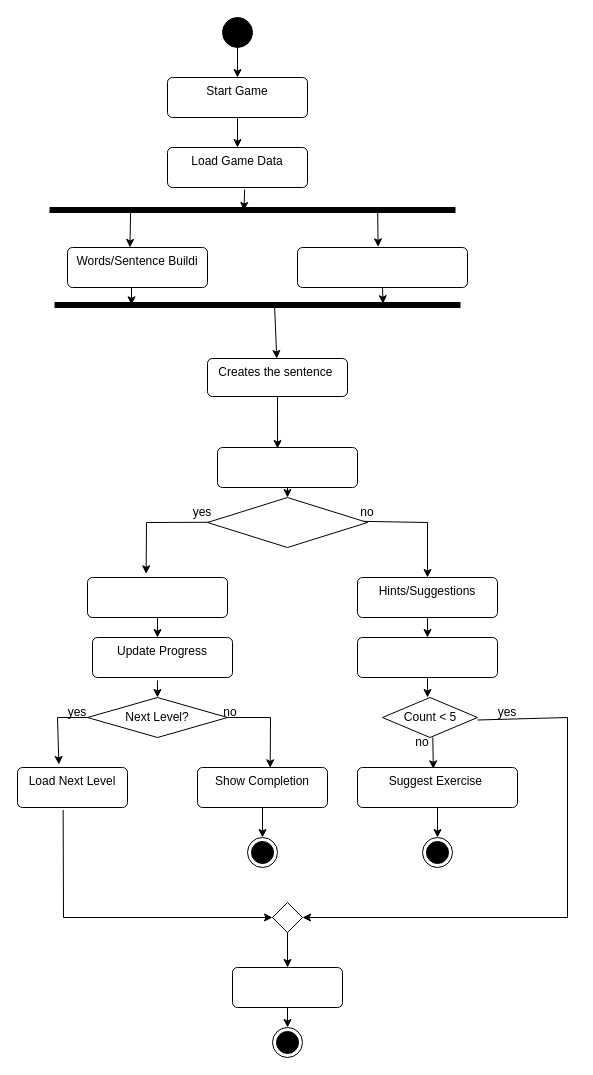
The diagram is 593 pixels wide and 1075 high, and some of its shapes have lost their labels. Each missing label, with the centre of its shape:
Background(Sounds/Effects): pixel 382 267
End Game: pixel 287 987
Evaluate Sentence: pixel 287 467
Increment Retry Count: pixel 427 657
Positive Feedback: pixel 157 597
Sentence Correct?: pixel 287 522
